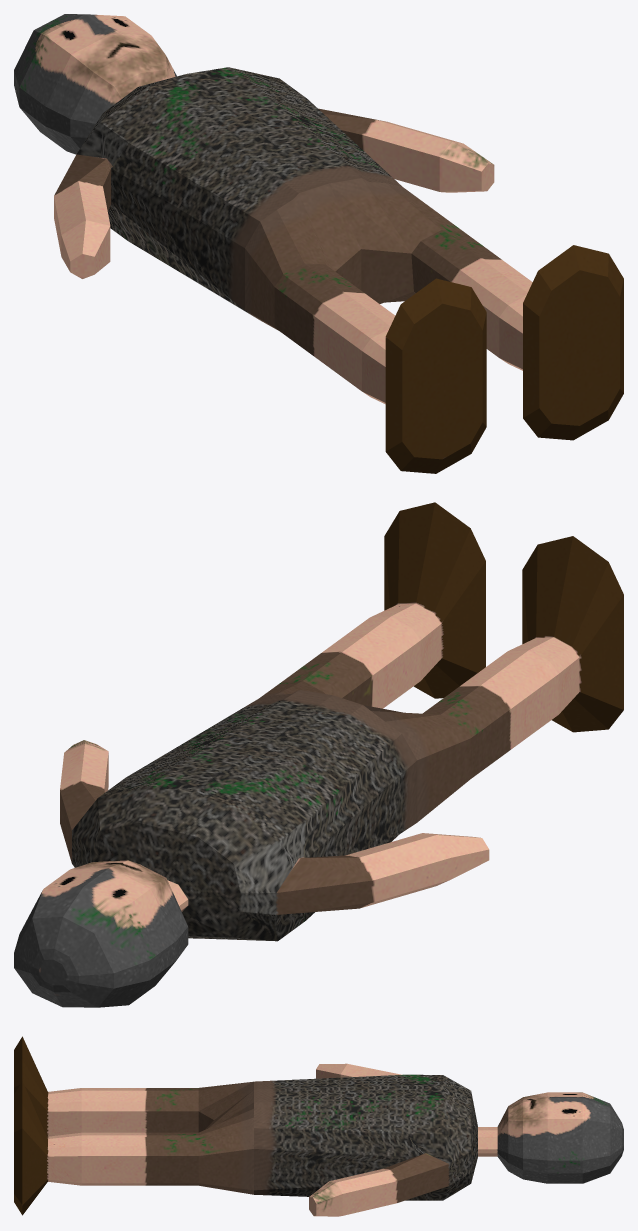
File: SOLDADOBB.obj
The picture shows the model from 3 angles, top to bottom: view 1: azimuth 30°, elevation 25°; view 2: azimuth 150°, elevation 25°; view 3: azimuth 270°, elevation 25°; orthographic projection. The views are drawn at different scales.
Visible parts, largest first — view 1: Plane.000_Plane.004; view 2: Plane.000_Plane.004; view 3: Plane.000_Plane.004.
Boxes of the visible parts, bbox=[...] form: Plane.000_Plane.004: bbox=[14, 14, 623, 473]; Plane.000_Plane.004: bbox=[14, 502, 623, 1007]; Plane.000_Plane.004: bbox=[14, 1036, 623, 1216].
Size of the model in its own units: 2.14 by 0.9537 by 4.03.
1 material, 1 textured.
